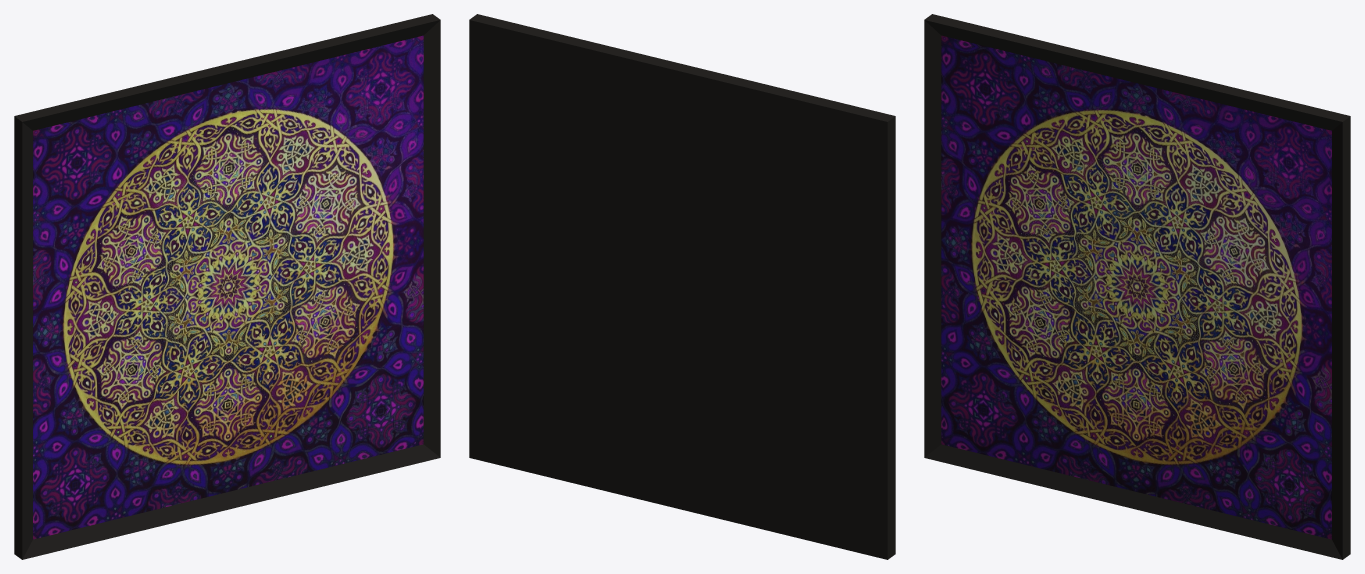
Rendered from peacock-minerva-peacock-moroccan-purple-a0-stained-black-v2.glb.
3 views of the same model, side by side, from view 1: azimuth 30°, elevation 25°; view 2: azimuth 150°, elevation 25°; view 3: azimuth 330°, elevation 25° (orthographic).
Parts seen in each view (by area): view 1: FramedPrint; view 2: FramedPrint; view 3: FramedPrint.
Boxes of the visible parts, x1,y1,x2,y2 form: FramedPrint: (14,14,440,559); FramedPrint: (469,14,895,559); FramedPrint: (924,14,1350,559).
Size of the model in its own units: 0.9 by 0.9 by 0.03.
2 materials, 1 textured.
